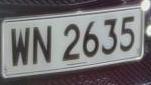2: (60, 18, 83, 68)
3: (100, 18, 119, 57)
5: (118, 13, 137, 54)
6: (81, 19, 101, 59)
N: (31, 22, 55, 71)
W: (8, 23, 33, 72)
